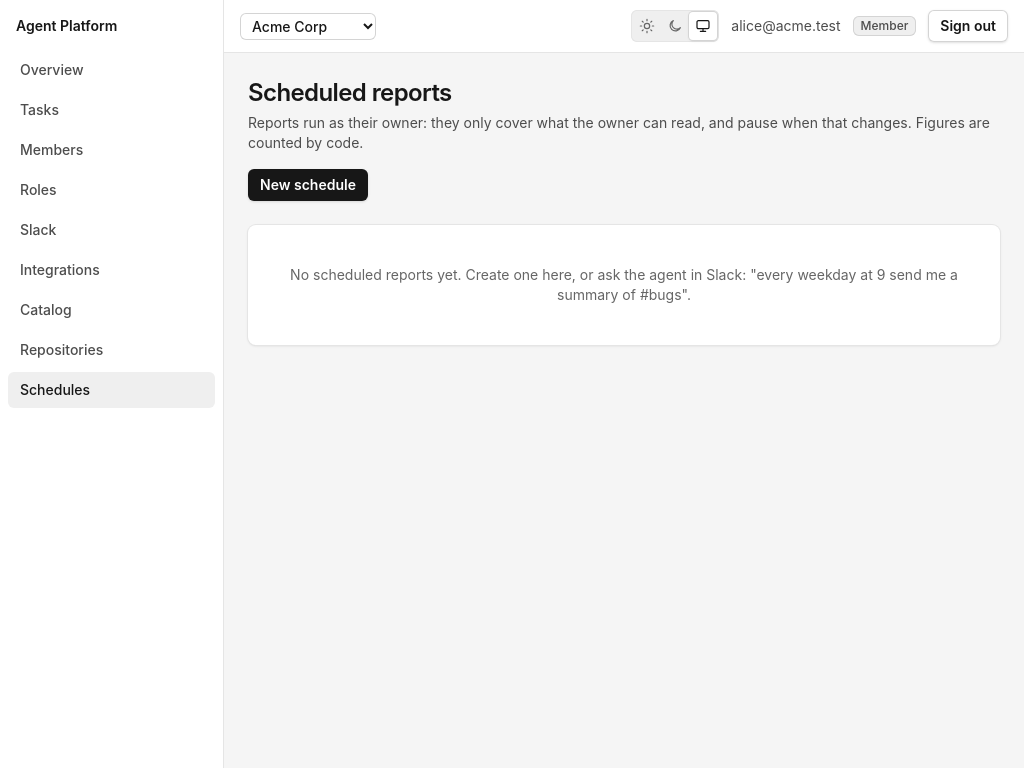
Test: Schedules page › shows the API refusal when a save is not valid
Click the button "New schedule". click: (308, 185)
box: [248,169,368,201]
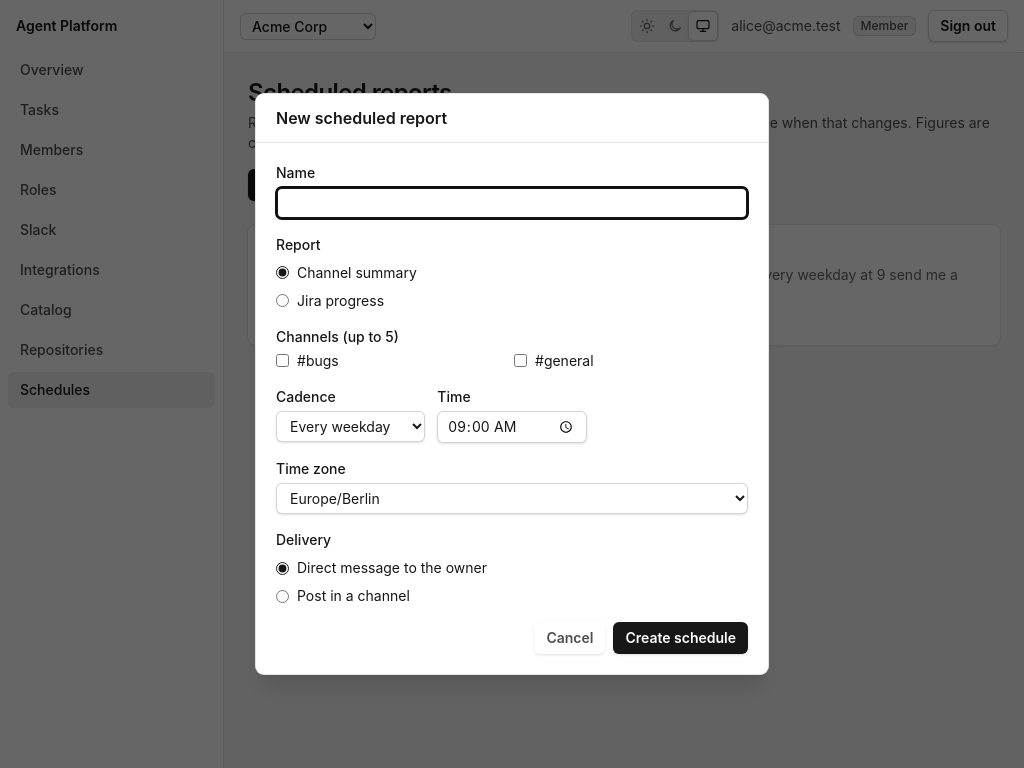
Type "General" into the field labelled "Name". click: (512, 203)
box: [276,187,748,219]
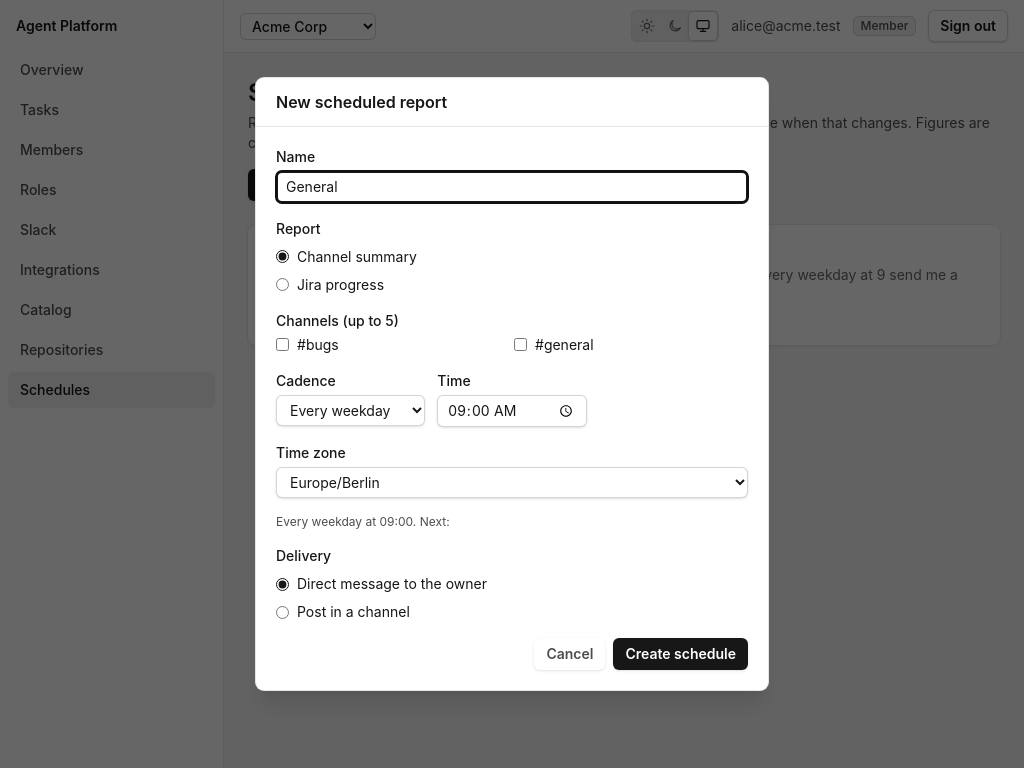
Click the checkbox named "Summarize #general". click: (520, 345)
box: [514,338,527,351]
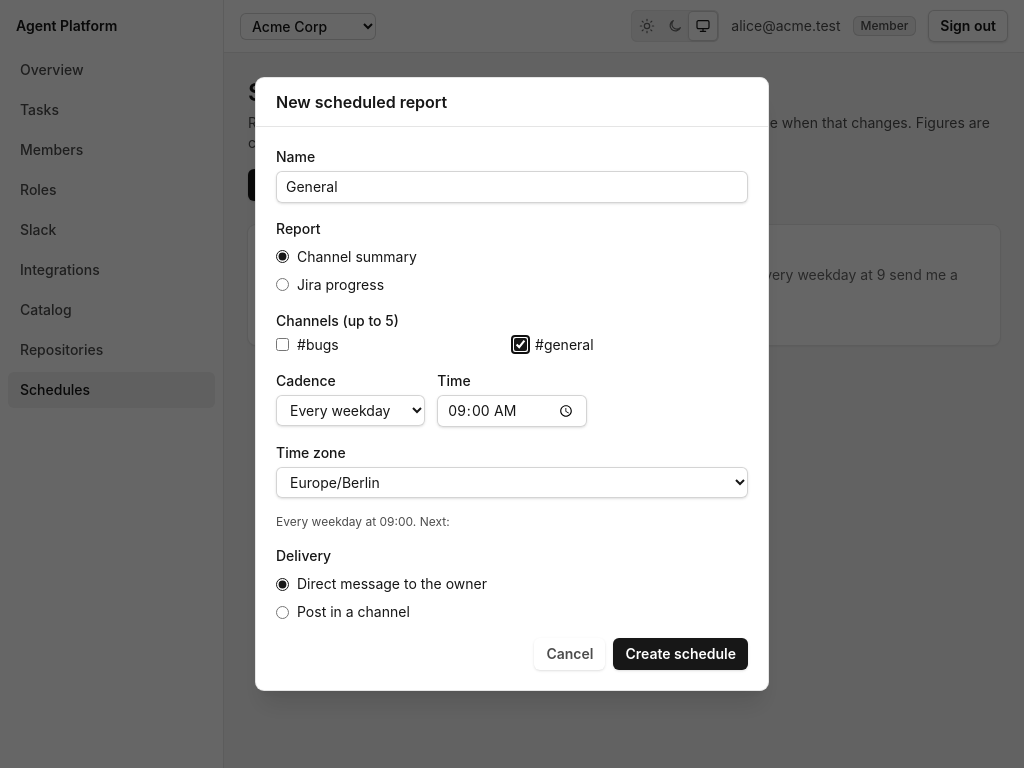
Click the button "Create schedule". click: (681, 654)
box: [613,638,748,670]
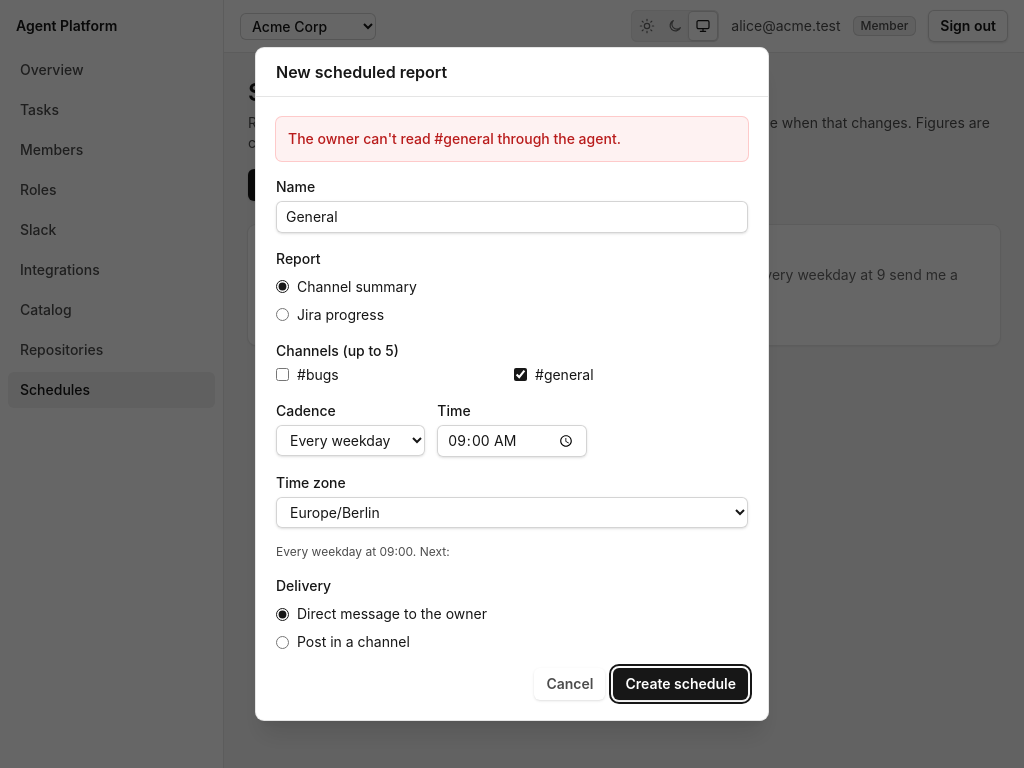
Result: the text "The owner can't read #general through the agent." is shown at [288,129,621,149]
